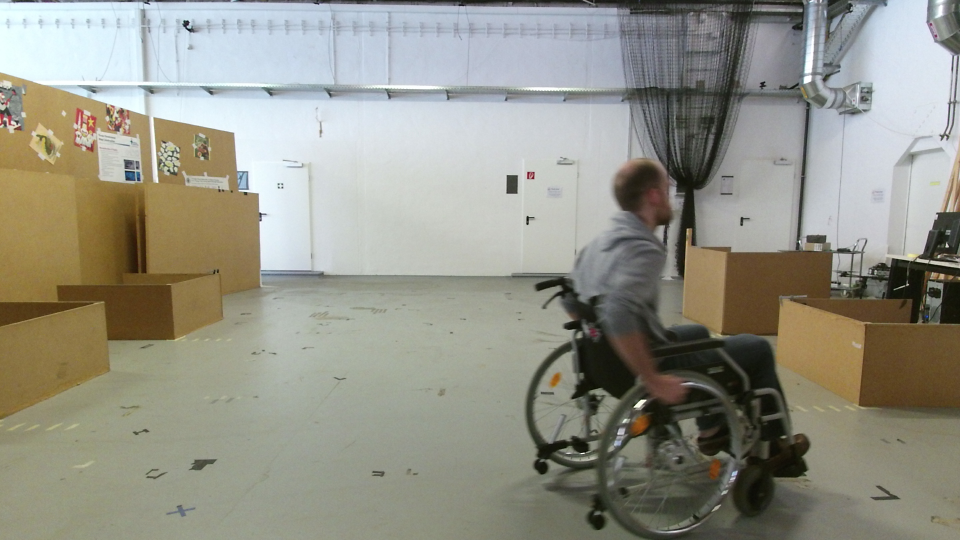wheelchair: (518, 154, 806, 540)
